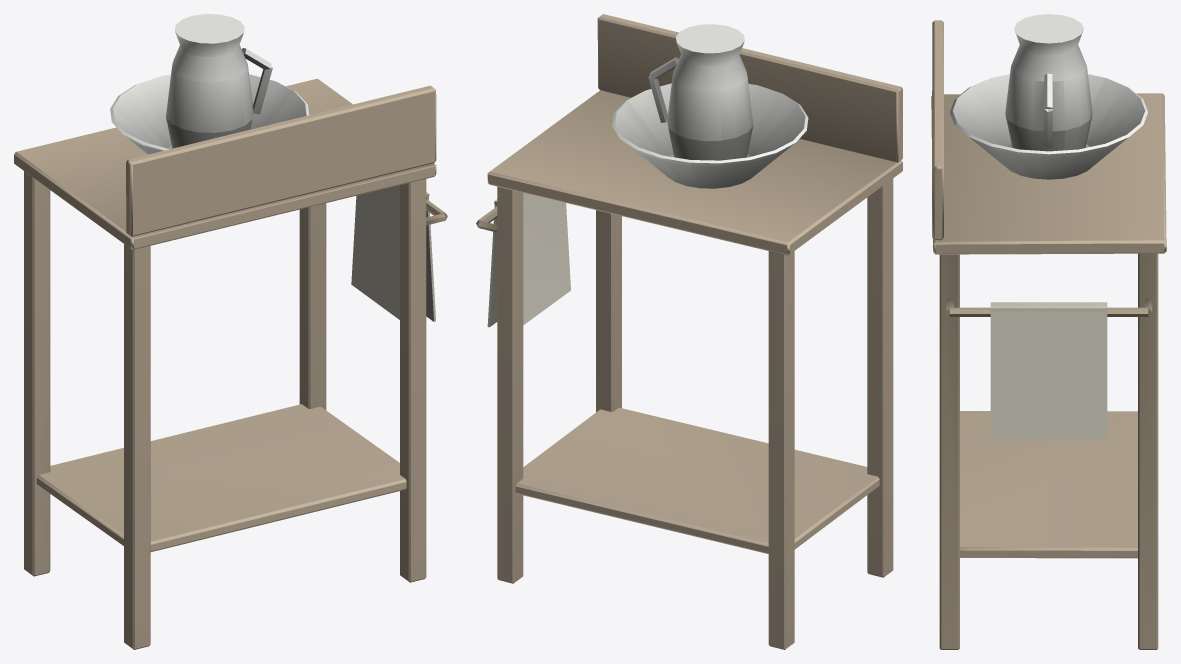
The model's file is washstand.glb.
The picture shows the model from 3 angles, left to right: view 1: azimuth 30°, elevation 25°; view 2: azimuth 150°, elevation 25°; view 3: azimuth 270°, elevation 25°; orthographic projection.
Parts seen in each view (by area): view 1: static; view 2: static; view 3: static.
Part boxes in pixels (<box>): static: <box>14,14,447,649</box>; static: <box>476,14,902,649</box>; static: <box>931,14,1166,649</box>.
Size of the model in its own units: 0.6563 by 1.03 by 0.403.
